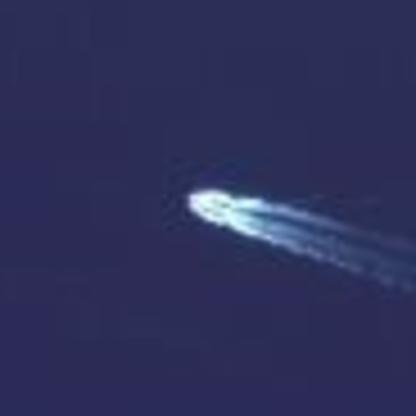ship: (176, 182, 236, 231)
